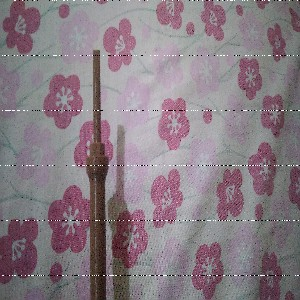obeng: (85, 49, 110, 300)
